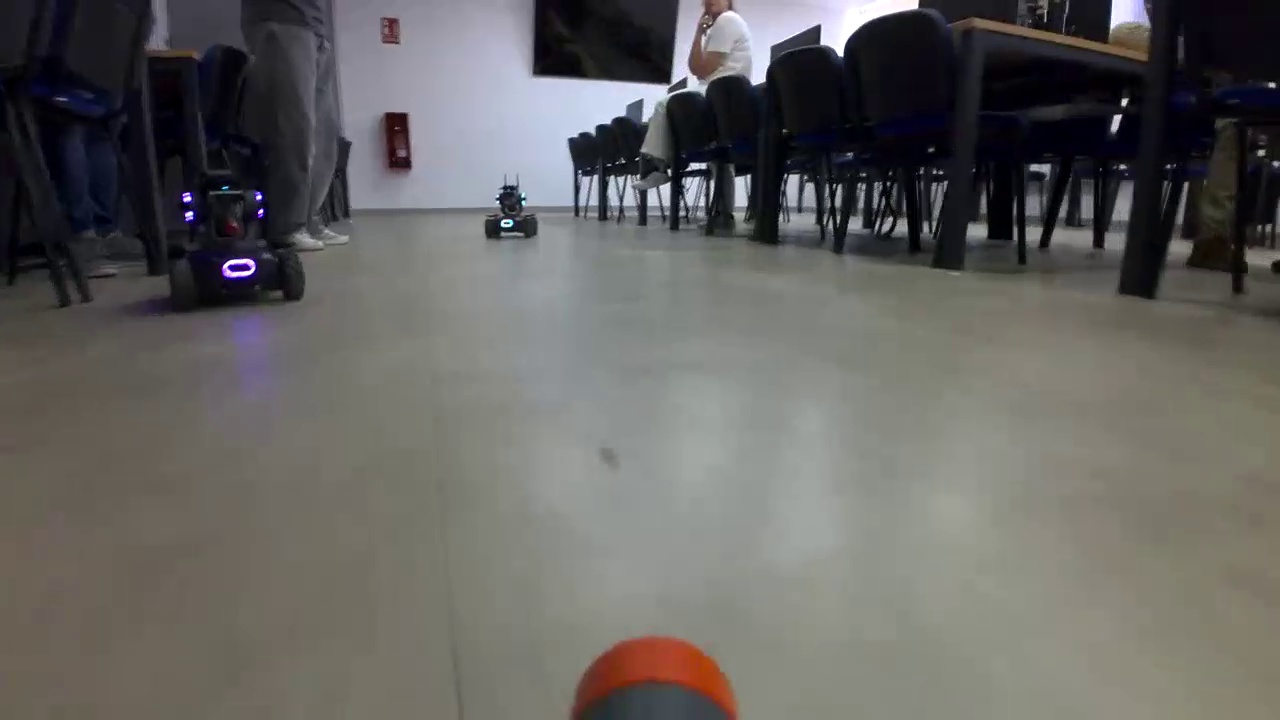robot: (168, 180, 302, 302), (485, 175, 540, 240)
